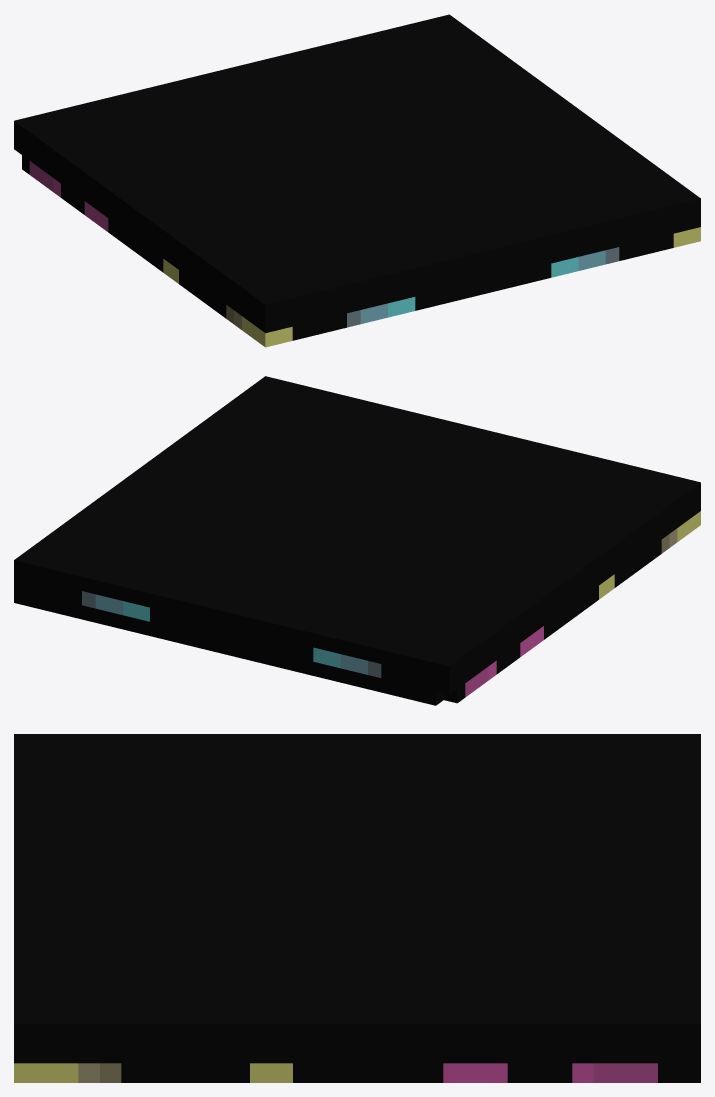
The picture shows the model from 3 angles, top to bottom: view 1: azimuth 30°, elevation 25°; view 2: azimuth 150°, elevation 25°; view 3: azimuth 270°, elevation 25°; orthographic projection. The views are drawn at different scales.
Size of the model in its own units: 1.6 by 0.15 by 1.6.
